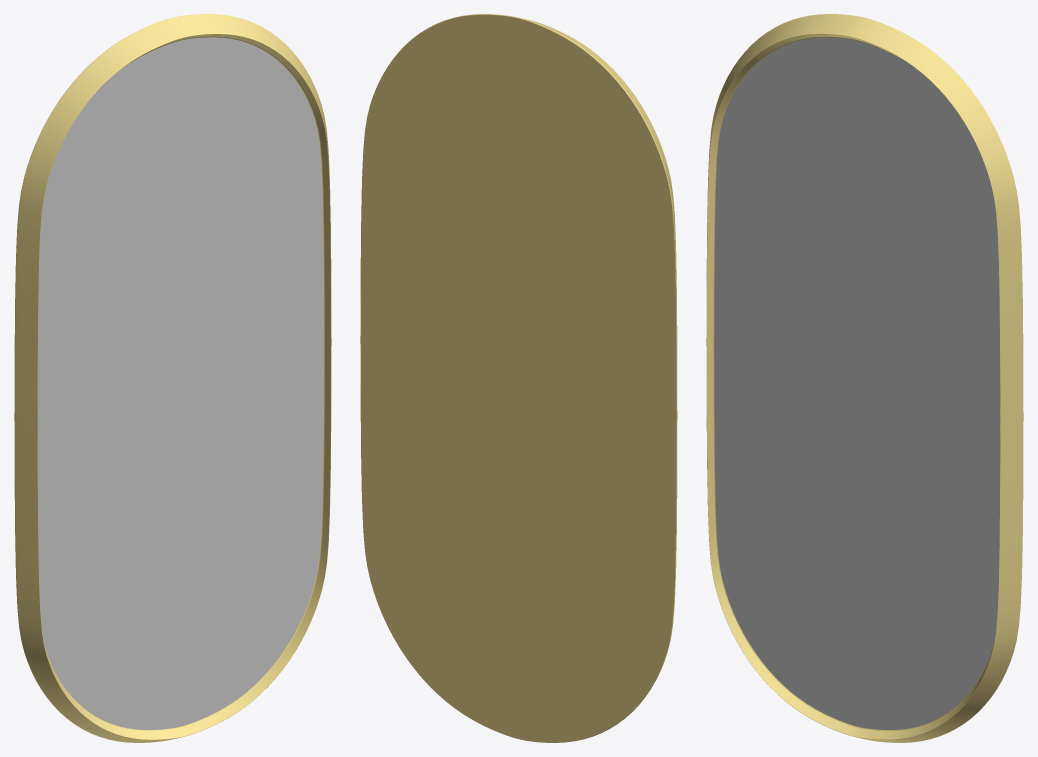
The model's file is Mirror_005(Gold).gltf.
3 renders of one model, left to right at view 1: azimuth 30°, elevation 25°; view 2: azimuth 150°, elevation 25°; view 3: azimuth 330°, elevation 25°, orthographic.
Parts seen in each view (by area): view 1: Mirror_005; view 2: Mirror_005; view 3: Mirror_005.
Boxes of the visible parts, x1=… form: Mirror_005: x1=14, y1=14, x2=331, y2=742; Mirror_005: x1=360, y1=14, x2=677, y2=742; Mirror_005: x1=706, y1=14, x2=1023, y2=742.
Bounding box in the file's own units: 0.4983 × 1.08 × 0.0326.
1 material, 1 textured.
